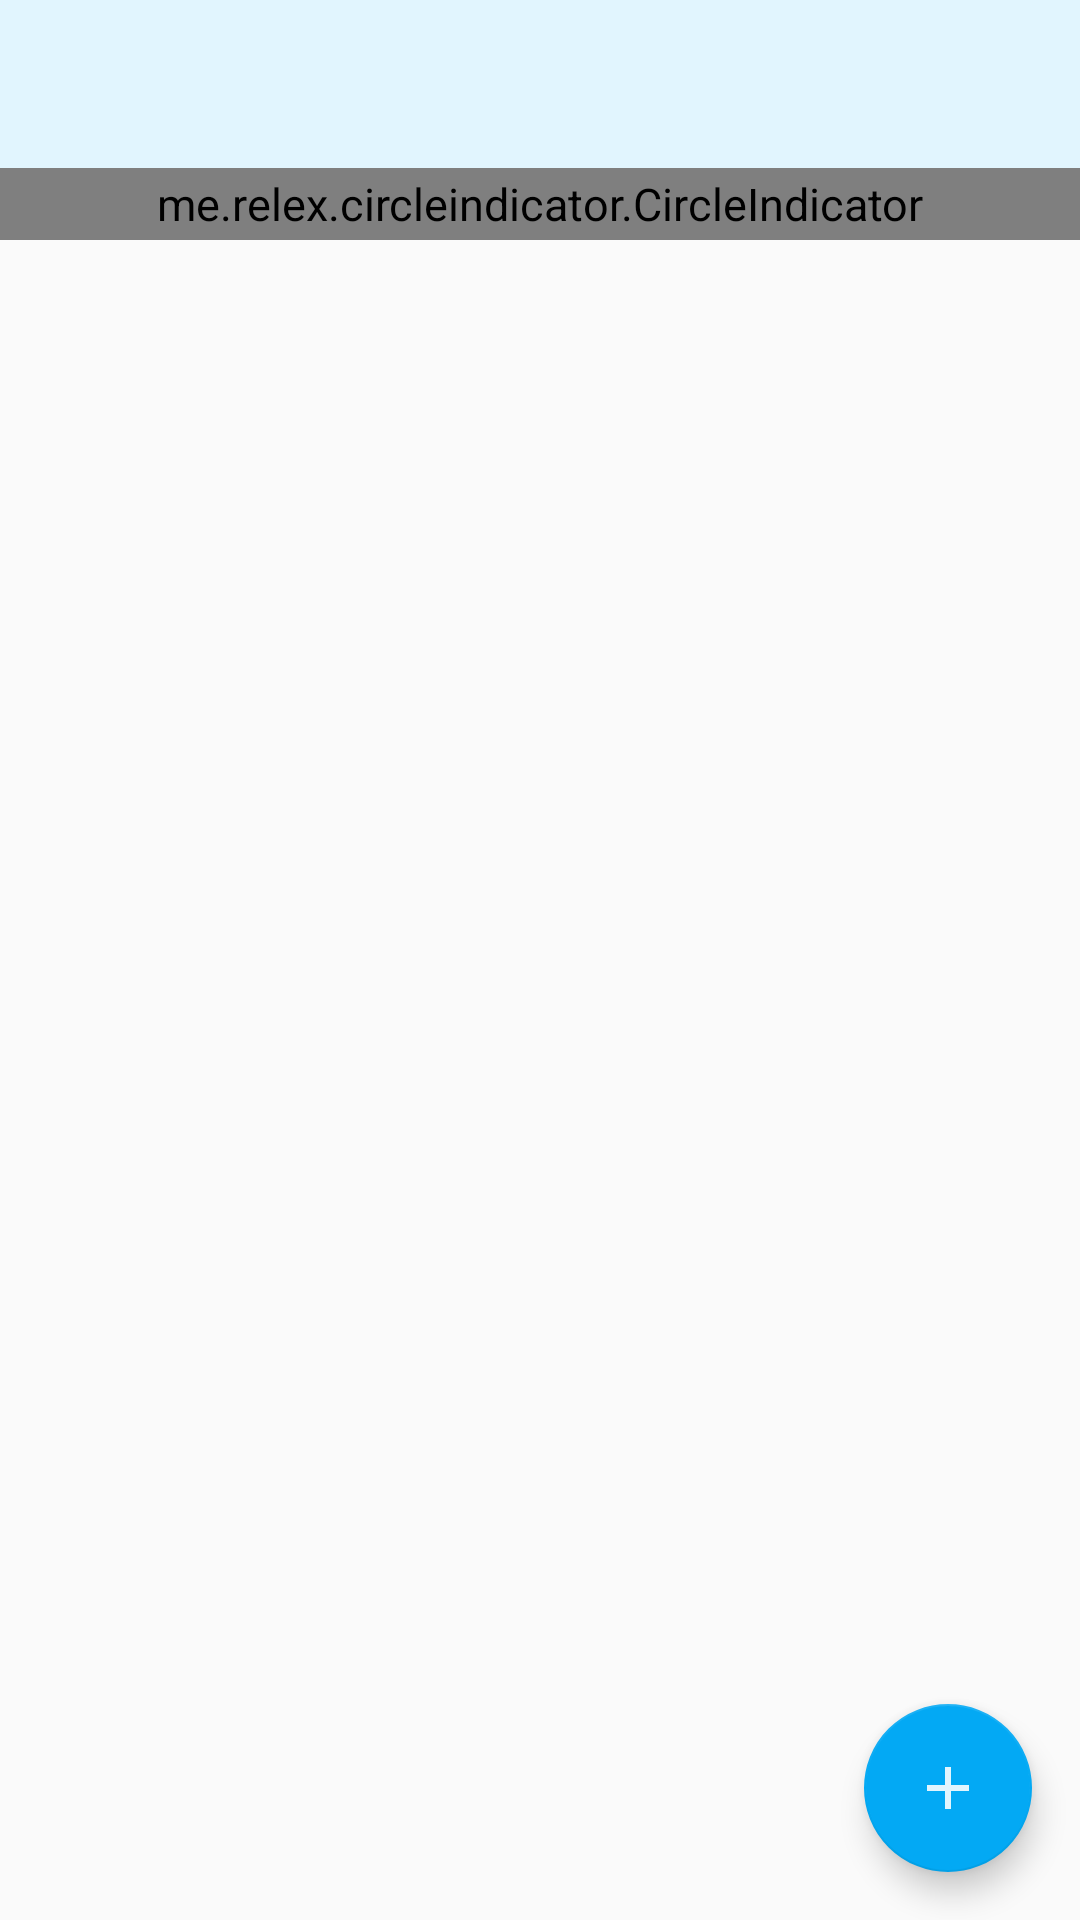

Icon click points for this 1080w x 1920h phone screenshot, format [x,y]:
add primarycolor: [948,1788]
